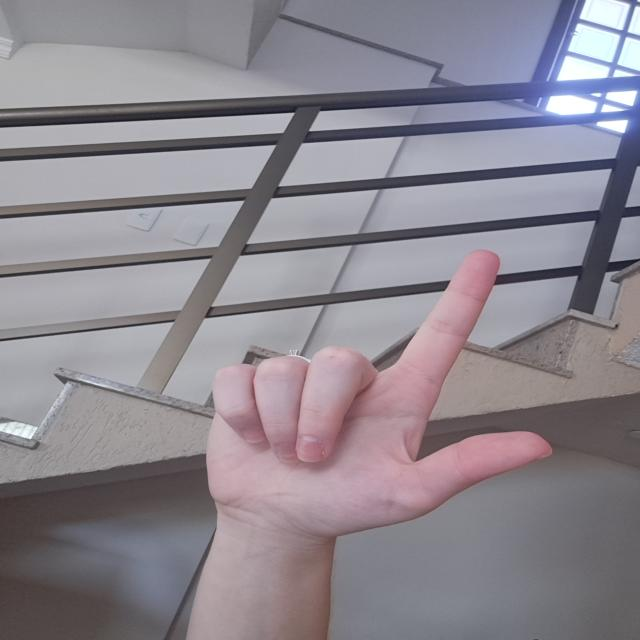L: (193, 239, 554, 543)
